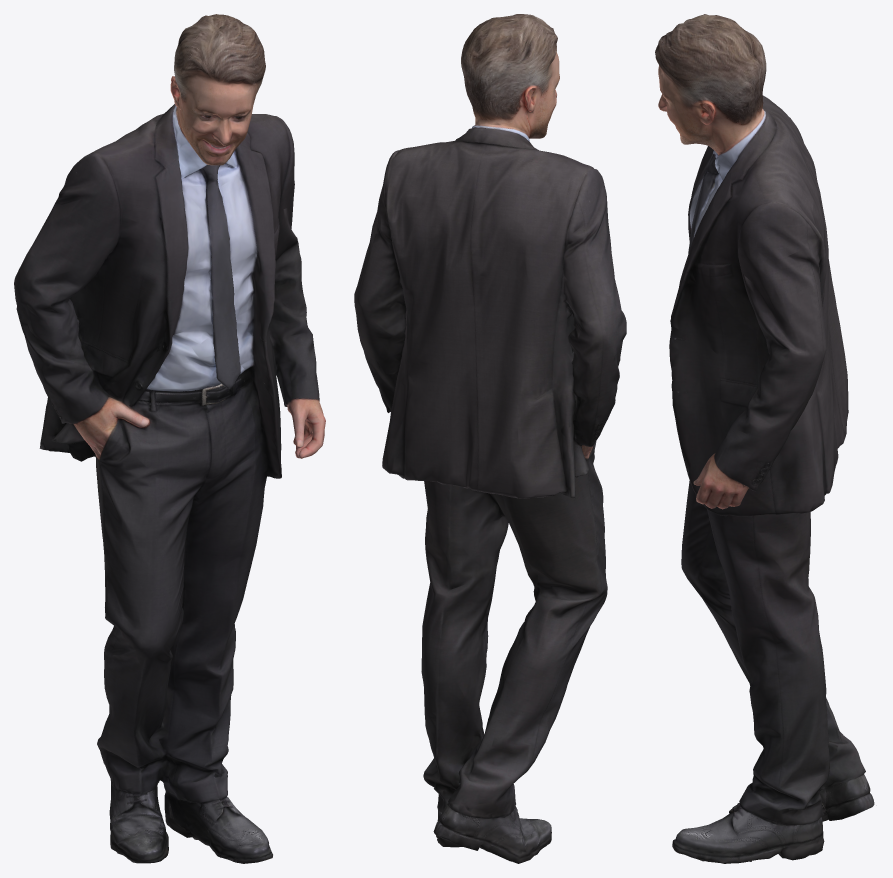
The model's file is human.glb.
3 renders of one model, left to right at view 1: azimuth 30°, elevation 25°; view 2: azimuth 150°, elevation 25°; view 3: azimuth 270°, elevation 25°, orthographic. The views are drawn at different scales.
Visible parts, largest first — view 1: rp_dennis_posed_004_30k; view 2: rp_dennis_posed_004_30k; view 3: rp_dennis_posed_004_30k.
Part boxes in pixels (x1,y1,x2,y2): rp_dennis_posed_004_30k: [14, 14, 325, 863]; rp_dennis_posed_004_30k: [354, 14, 626, 863]; rp_dennis_posed_004_30k: [655, 14, 874, 863].
Size of the model in its own units: 0.6416 by 1.87 by 0.4589.
1 material, 1 textured.
